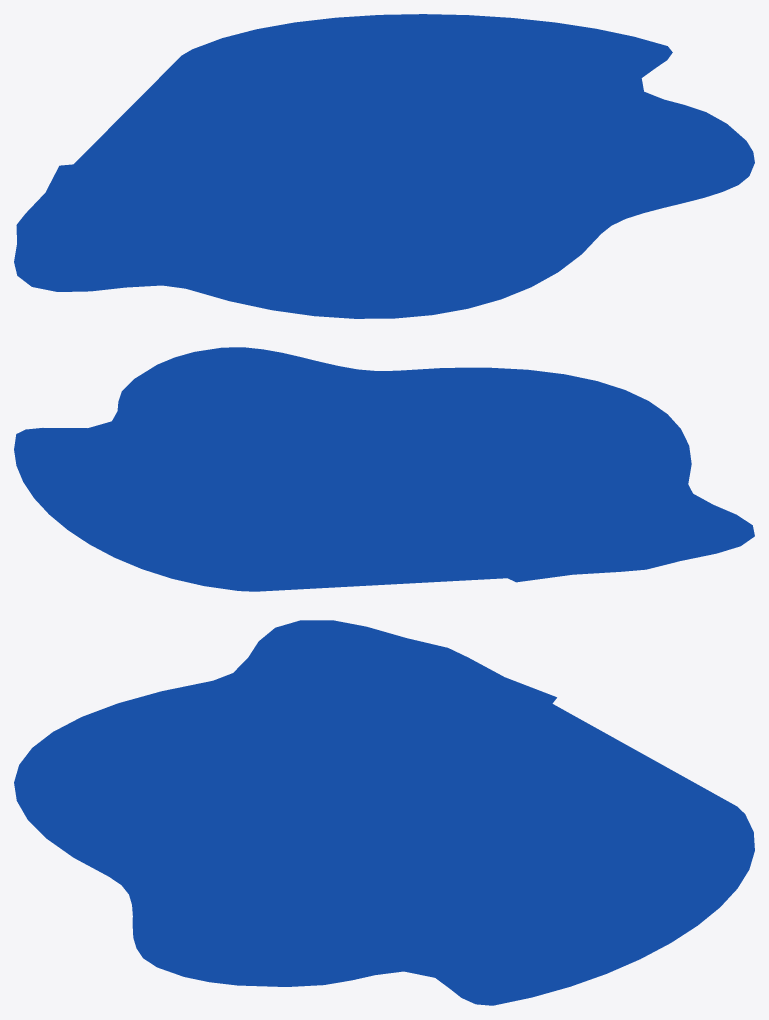
Rendered from Paint.fbx.
3 renders of one model, top to bottom at view 1: azimuth 30°, elevation 25°; view 2: azimuth 150°, elevation 25°; view 3: azimuth 270°, elevation 25°, orthographic. The views are drawn at different scales.
Parts seen in each view (by area): view 1: BézierCurve; view 2: BézierCurve; view 3: BézierCurve.
Boxes of the visible parts, left/top/right/bottom form: BézierCurve: left=14, top=14, right=754, bottom=318; BézierCurve: left=14, top=347, right=754, bottom=591; BézierCurve: left=14, top=620, right=754, bottom=1005.
Size of the model in its own units: 272 by 3.59e-05 by 221.
